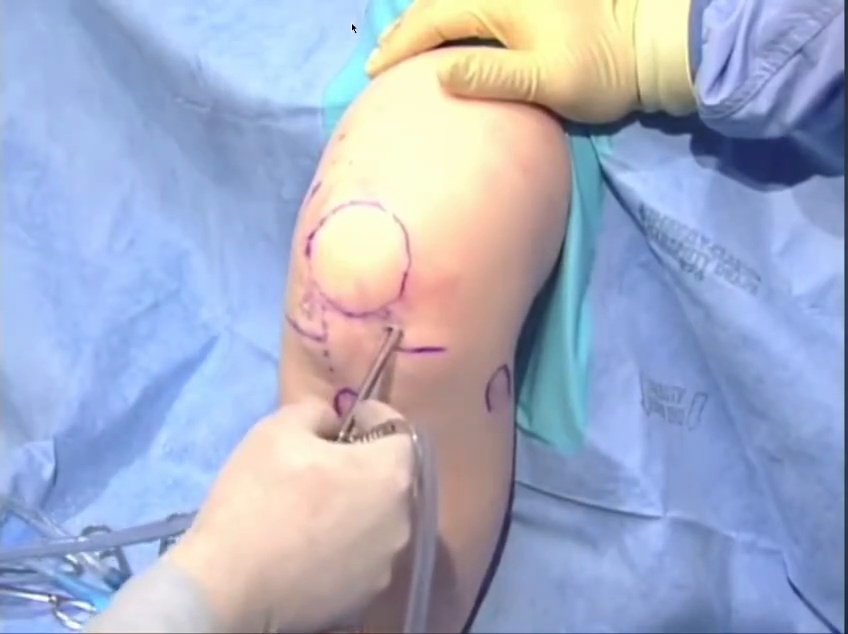arthroscope: (424, 30, 848, 634), (142, 158, 402, 508)
probe: (569, 0, 848, 145), (578, 127, 754, 315), (23, 319, 85, 411), (225, 129, 307, 198)
